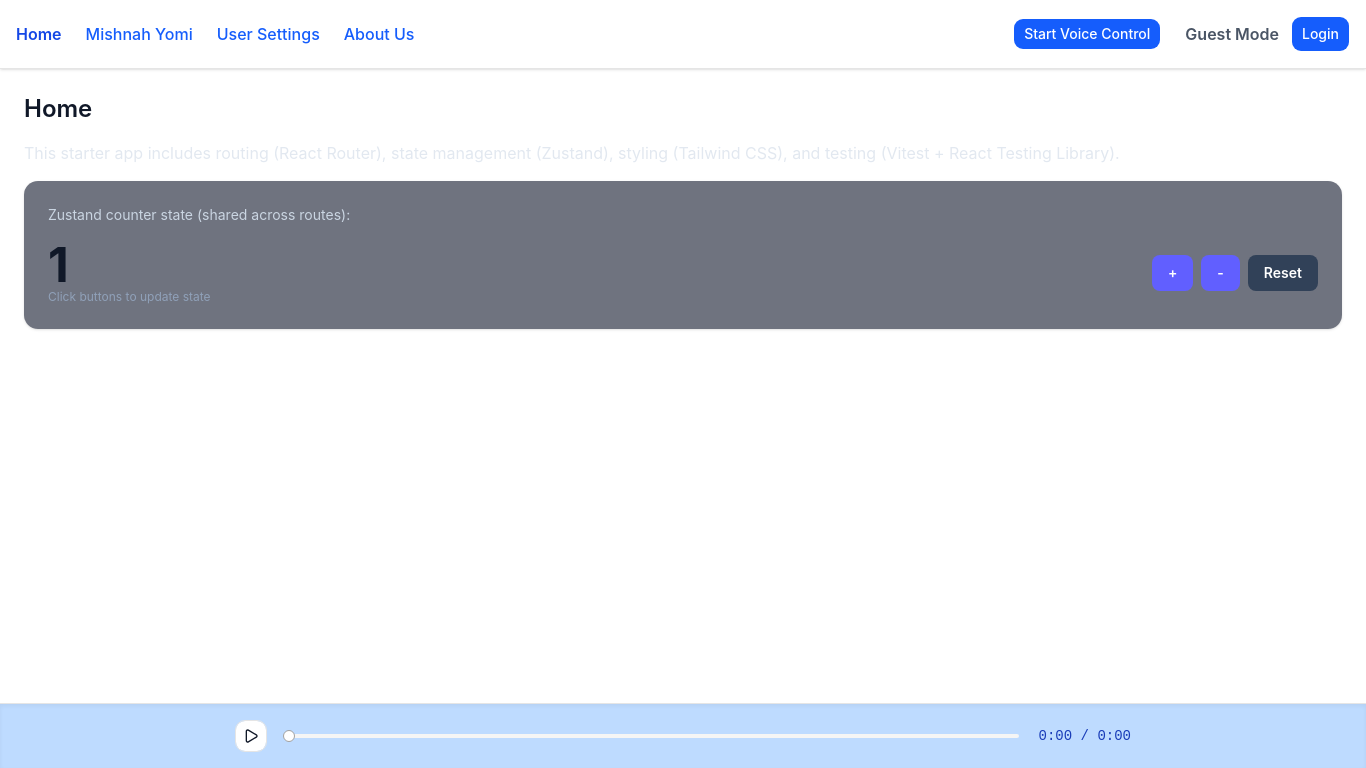
Test: App routing › navigates to the About page
Click the link "About Us": (379, 34) [344,22,414,46]
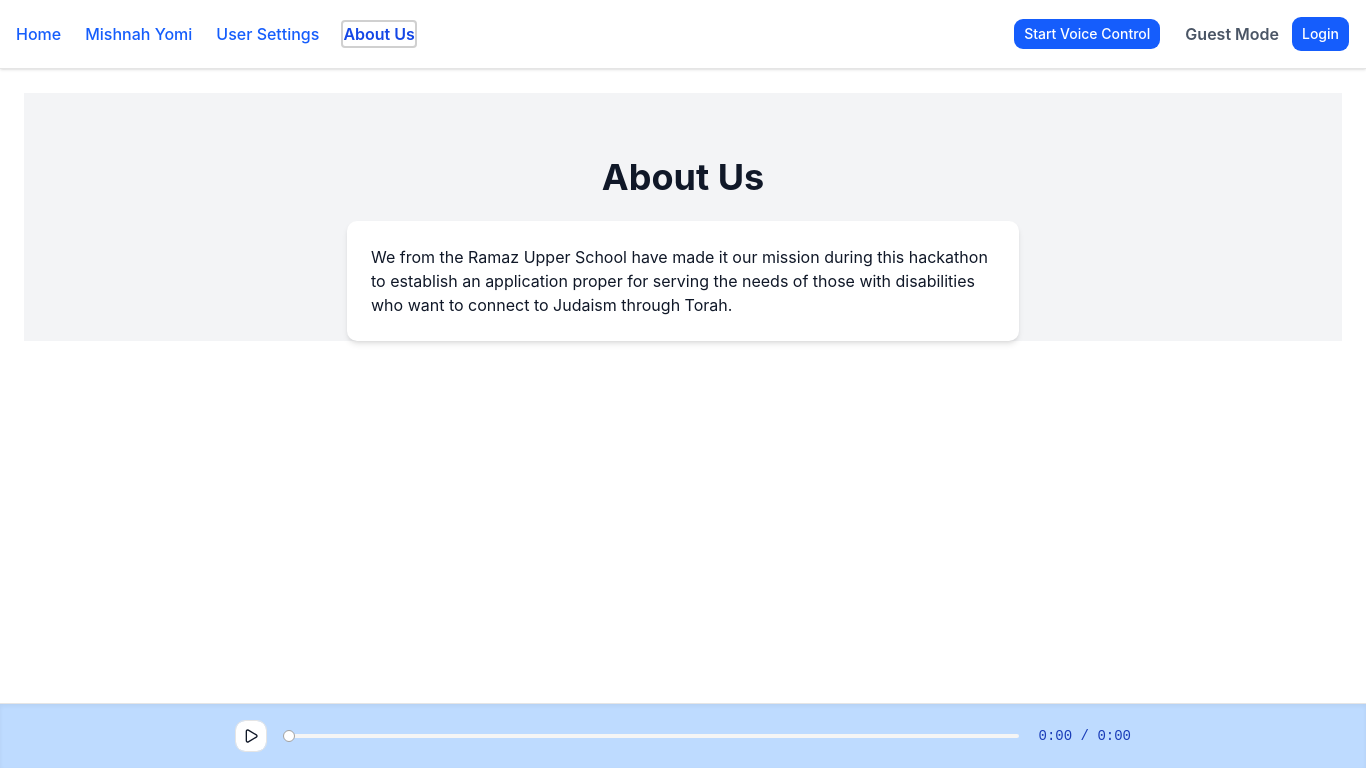
Expected: the heading "About Us" is shown, [602,157,764,197]
